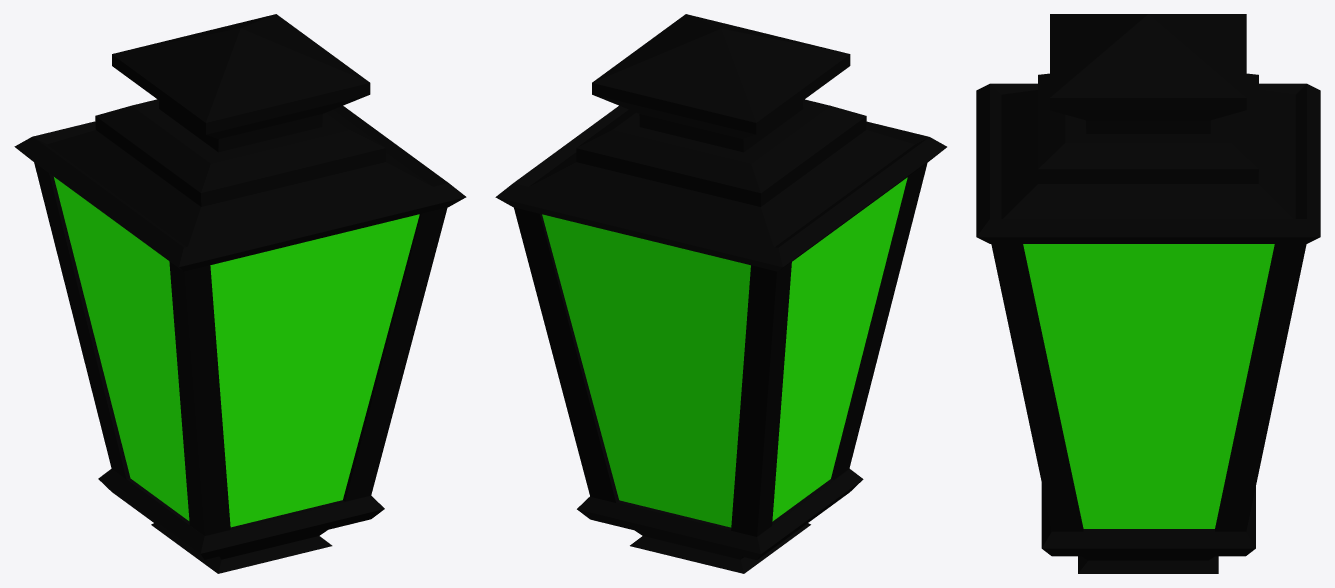
Rendered from alarm_green.glb.
3 views of the same model, side by side, from view 1: azimuth 30°, elevation 25°; view 2: azimuth 150°, elevation 25°; view 3: azimuth 270°, elevation 25° (orthographic). The views are drawn at different scales.
Visible parts, largest first — view 1: Torus.001; view 2: Torus.001; view 3: Torus.001.
Part boxes in pixels (<box>): Torus.001: <box>14,14,466,573</box>; Torus.001: <box>495,14,946,573</box>; Torus.001: <box>976,14,1320,573</box>.
Size of the model in its own units: 2.21 by 3.93 by 2.19.
